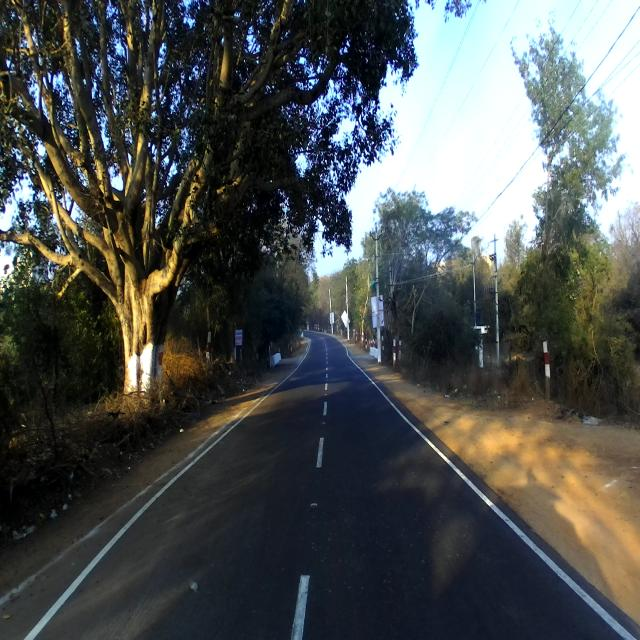tree ahead at: (40, 104, 222, 428)
